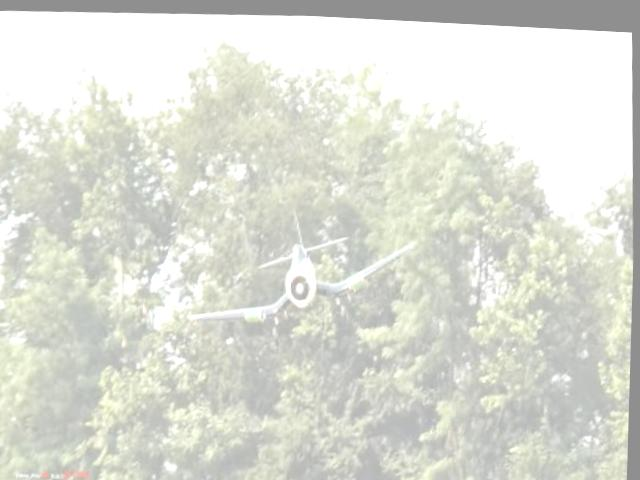uav: (183, 195, 427, 335)
